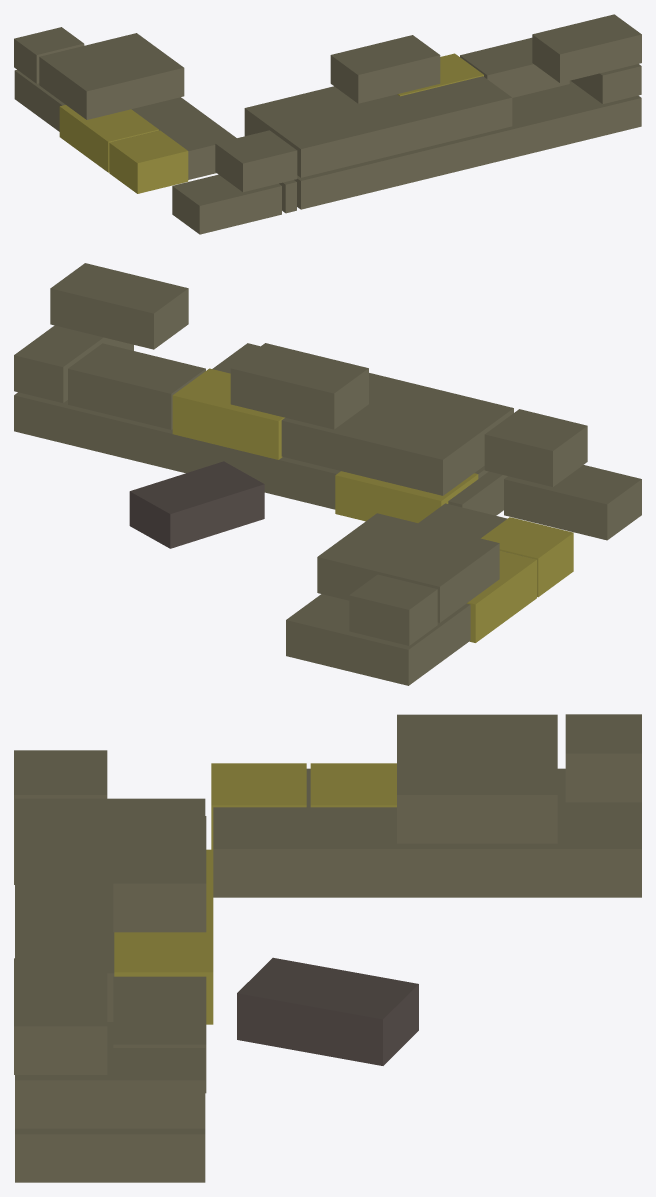
The model's file is SM_PretilEsquinaPaso_v2_Irregular_e2_MuyDanado_LOD1.fbx.
3 renders of one model, top to bottom at view 1: azimuth 30°, elevation 25°; view 2: azimuth 150°, elevation 25°; view 3: azimuth 270°, elevation 25°, orthographic. The views are drawn at different scales.
Parts seen in each view (by area): view 1: SM_pretil_azotea_v50_LOD1; view 2: SM_pretil_azotea_v50_LOD1; view 3: SM_pretil_azotea_v50_LOD1.
Part boxes in pixels (x1=…): SM_pretil_azotea_v50_LOD1: x1=14, y1=14, x2=641, y2=234; SM_pretil_azotea_v50_LOD1: x1=14, y1=263, x2=641, y2=685; SM_pretil_azotea_v50_LOD1: x1=14, y1=714, x2=641, y2=1182.
Bounding box in the file's own units: 4.4 × 0.885 × 3.17.
